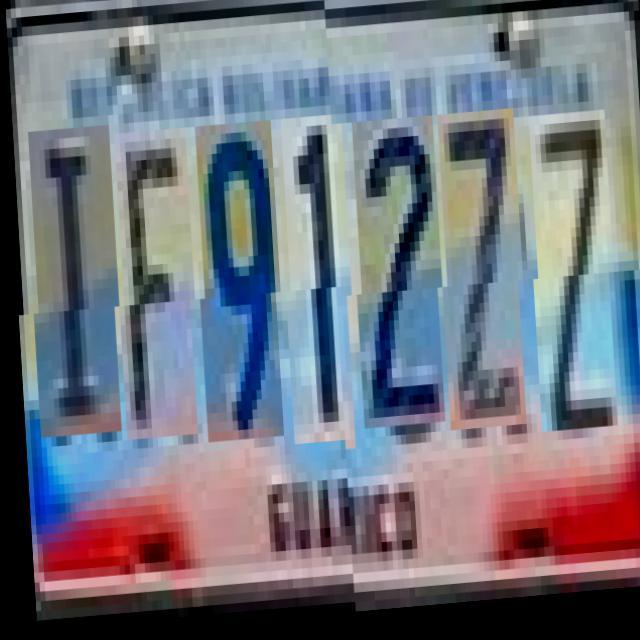1: (279, 130, 355, 458)
2: (350, 123, 444, 434)
9: (194, 135, 284, 455)
F: (112, 140, 198, 450)
I: (27, 136, 122, 448)
Z: (436, 118, 526, 438), (527, 121, 617, 441)
